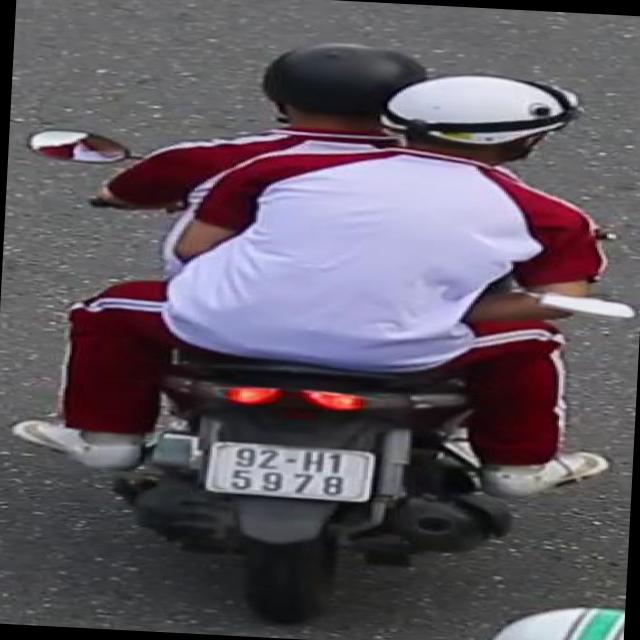LP: (203, 436, 374, 505)
helmet: (374, 66, 602, 192), (233, 30, 420, 156)
